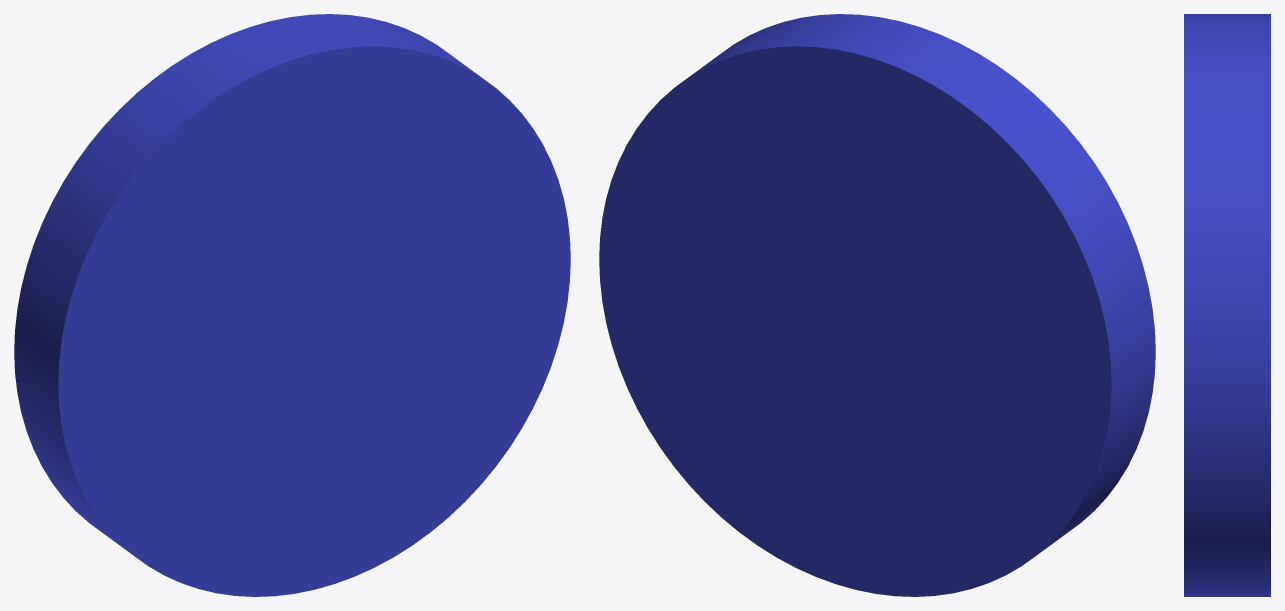
Rendered from marker.fbx.
3 renders of one model, left to right at view 1: azimuth 30°, elevation 25°; view 2: azimuth 150°, elevation 25°; view 3: azimuth 270°, elevation 25°, orthographic.
Visible parts, largest first — view 1: root; view 2: root; view 3: root.
Boxes of the visible parts, x1,y1,x2,y2 form: root: [14, 14, 570, 596]; root: [599, 14, 1155, 596]; root: [1184, 14, 1270, 596].
Size of the model in its own units: 0.2079 by 0.2079 by 0.031.
